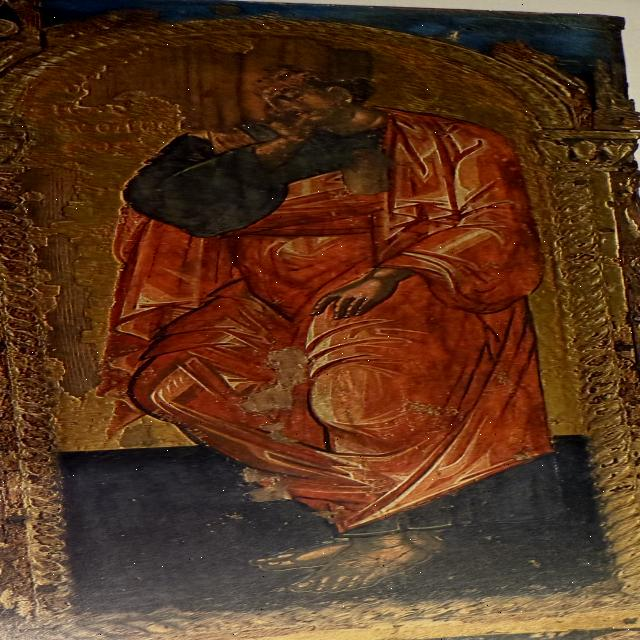saint: (44, 24, 616, 603)
